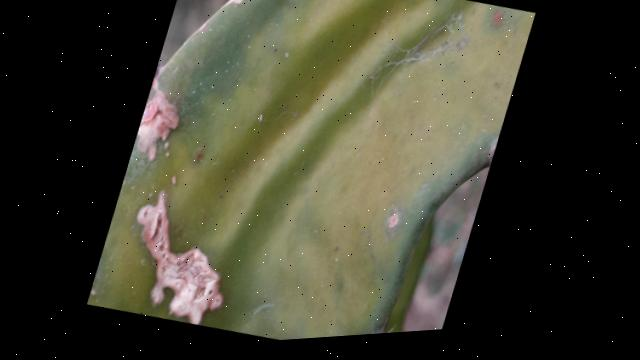stemcanker: (131, 191, 222, 325), (134, 85, 182, 155)
